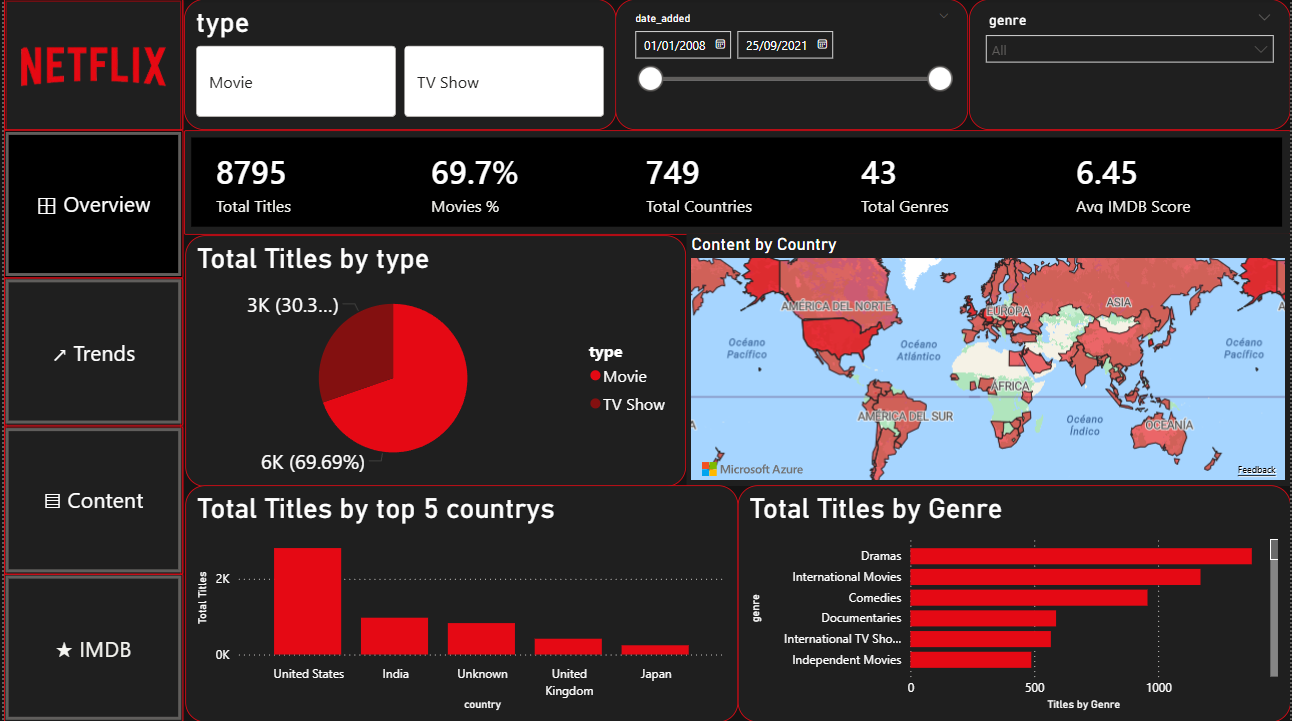

This screenshot's page, from the dashboard's own definition file:
{"tool":"powerbi","page":{"name":"⊞Overview","canvas":[1280,720],"ordinal":0},"visuals":[{"type":"cardVisual","fields":{"Data":["netflix_final.Total Titles","netflix_final.Movies Pct","netflix_final.Total Countries","Count(genres.genre)","Avg(netflix_final.imdb_score)"]},"box":[178.8,130,1101.2,103.8],"z":0},{"type":"azureMap","title":"Content by Country","fields":{"Category":["netflix_final.country"]},"box":[678.8,233.8,601.2,250],"z":1000},{"type":"advancedSlicerVisual","fields":{"Values":["netflix_final.type"]},"box":[178.8,0,430,130],"z":2000},{"type":"pieChart","fields":{"Category":["netflix_final.type"],"Y":["netflix_final.Total Titles"]},"box":[180,235,498.8,250],"z":3000},{"type":"slicer","fields":{"Values":["netflix_final.date_added"]},"box":[608.8,0,351.2,130],"z":4000},{"type":"clusteredColumnChart","title":"Total Titles by top 5 countrys","fields":{"Category":["netflix_final.country"],"Y":["netflix_final.Total Titles"]},"box":[180,483.8,550,236.2],"z":5000},{"type":"clusteredBarChart","title":"Total Titles by Genre","fields":{"Category":["genres.genre"],"Y":["Measures_.Titles by Genre"]},"box":[730,483.8,550,236.2],"z":6000},{"type":"slicer","fields":{"Values":["genres.genre"]},"box":[960,0,320,130],"z":7000},{"type":"shape","box":[0,0,178.8,720],"z":8000},{"type":"image","box":[0,0,178.8,130],"z":9000},{"type":"actionButton","box":[0,130,178.8,147.5],"z":10000},{"type":"actionButton","box":[0,277.5,178.8,147.5],"z":11000},{"type":"actionButton","box":[0,425,178.8,147.5],"z":12000},{"type":"actionButton","box":[0,572.5,178.8,147.5],"z":13000}]}

Visuals, with their boxes on the page's 1280x720 design canvas (x1, y1, x2, y2). These are canvas units, not pixel positions in the 1292x721 screenshot, which may show the page scaled, cropped or inside an application window:
cardVisual - netflix_final.Total Titles x netflix_final.Movies Pct: [179,130,1280,234]
"Content by Country" azureMap: [679,234,1280,484]
advancedSlicerVisual - netflix_final.type: [179,0,609,130]
pieChart - netflix_final.type x netflix_final.Total Titles: [180,235,679,485]
slicer - netflix_final.date_added: [609,0,960,130]
"Total Titles by top 5 countrys" clusteredColumnChart: [180,484,730,720]
"Total Titles by Genre" clusteredBarChart: [730,484,1280,720]
slicer - genres.genre: [960,0,1280,130]
shape: [0,0,179,720]
image: [0,0,179,130]
actionButton: [0,130,179,278]
actionButton: [0,278,179,425]
actionButton: [0,425,179,572]
actionButton: [0,572,179,720]
